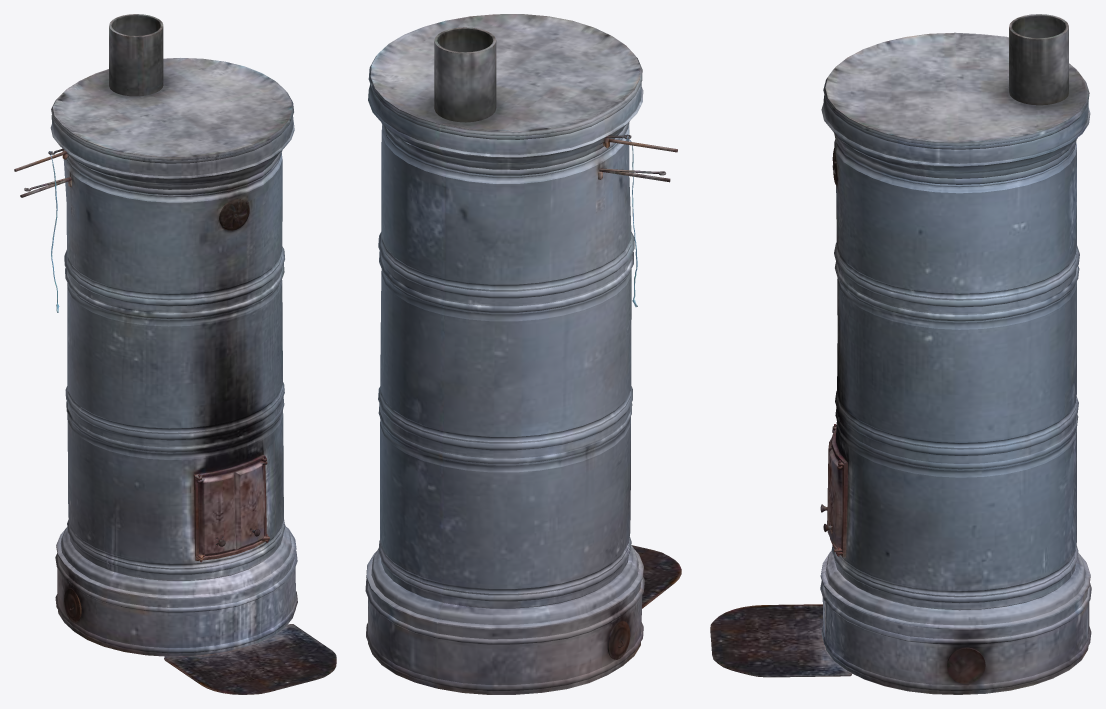
3 renders of one model, left to right at view 1: azimuth 30°, elevation 25°; view 2: azimuth 150°, elevation 25°; view 3: azimuth 270°, elevation 25°, orthographic. The views are drawn at different scales.
Parts seen in each view (by area): view 1: scandinavian_masonry_heater; view 2: scandinavian_masonry_heater; view 3: scandinavian_masonry_heater.
Boxes of the visible parts, <box> form: scandinavian_masonry_heater: <box>14,14,336,694</box>; scandinavian_masonry_heater: <box>365,14,681,694</box>; scandinavian_masonry_heater: <box>710,14,1091,694</box>.
Size of the model in its own units: 1.17 by 2.36 by 1.34.
1 material, 1 textured.
